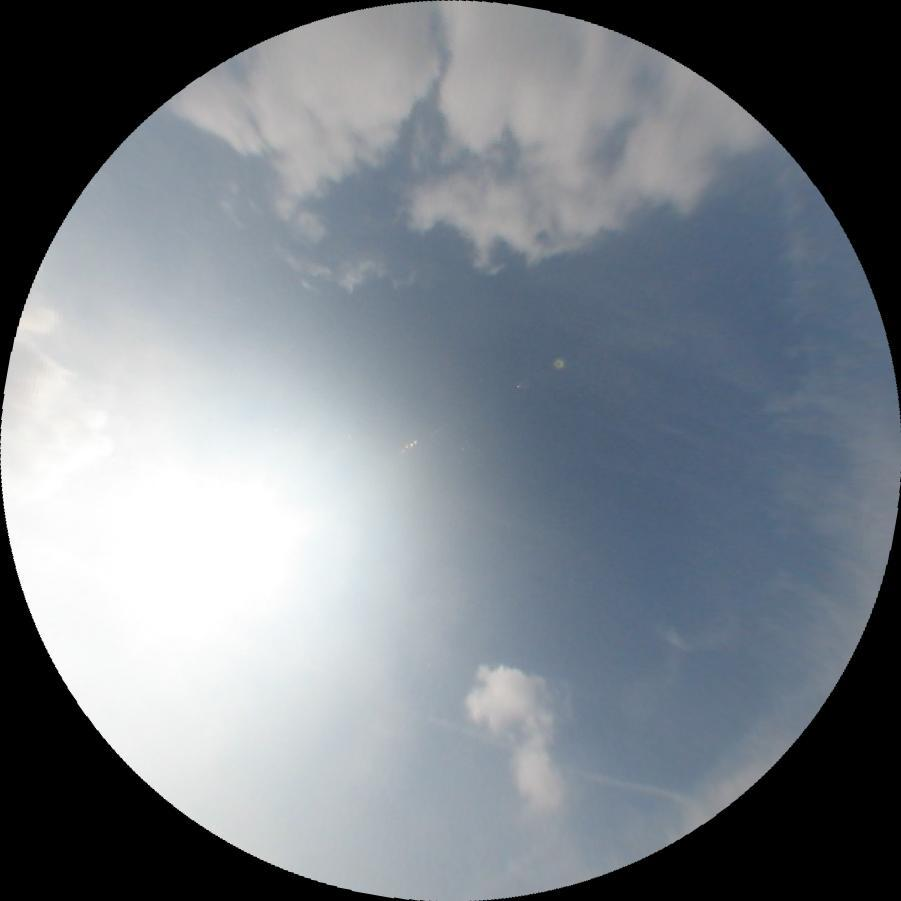contrail old: (428, 720, 694, 812)
sun: (40, 452, 320, 683)
